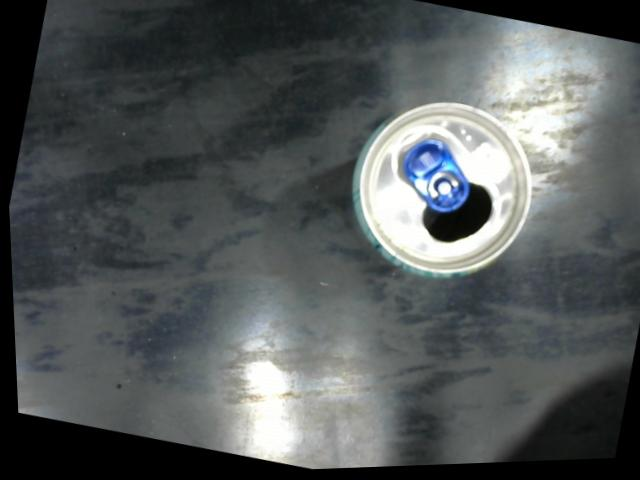can: (326, 82, 551, 305)
